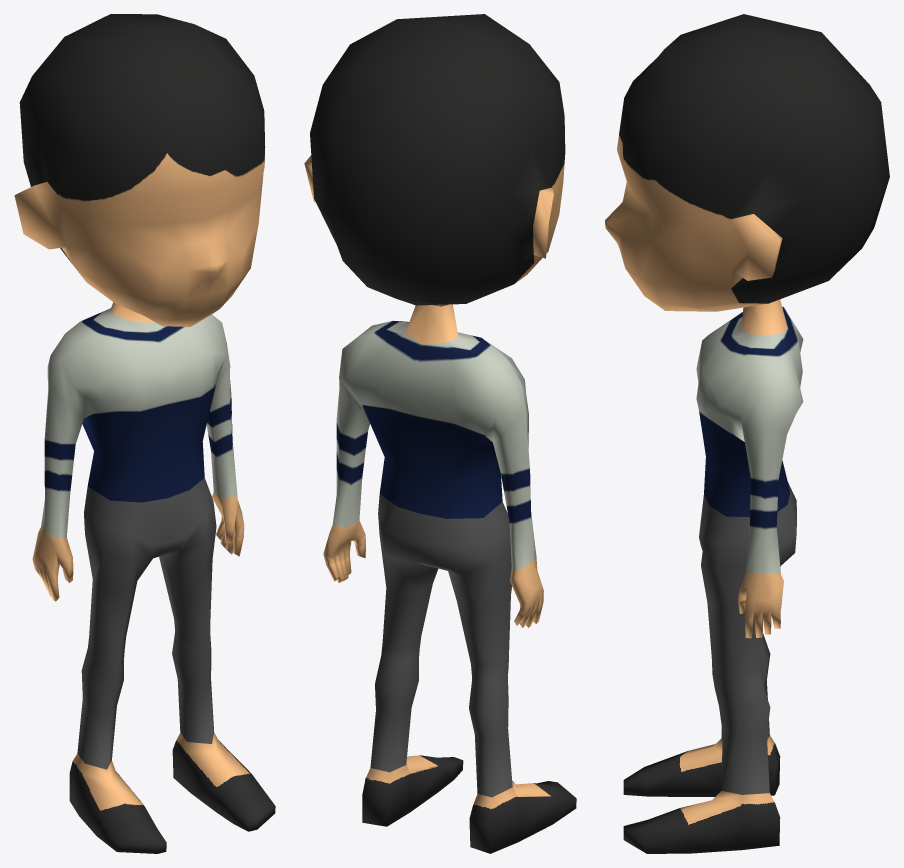
File: college student_boy.FBX
3 views of the same model, side by side, from view 1: azimuth 30°, elevation 25°; view 2: azimuth 150°, elevation 25°; view 3: azimuth 270°, elevation 25° (orthographic). The views are drawn at different scales.
Visible parts, largest first — view 1: leg010, Plane014; view 2: leg010, Plane014; view 3: Plane014, leg010.
Boxes of the visible parts, <box> form: leg010: <box>32,302,275,853</box>; Plane014: <box>14,14,265,326</box>; leg010: <box>323,304,576,853</box>; Plane014: <box>304,14,565,305</box>; Plane014: <box>605,14,889,311</box>; leg010: <box>623,299,803,853</box>.
Size of the model in its own units: 27.87 by 87.24 by 28.68.
2 materials, 2 textured.
